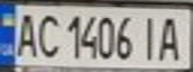0: (97, 12, 118, 61)
1: (60, 10, 81, 60)
4: (78, 11, 100, 60)
6: (115, 12, 139, 61)
A: (154, 12, 187, 62), (12, 9, 39, 58)
C: (33, 10, 60, 60)
I: (136, 12, 163, 62)
